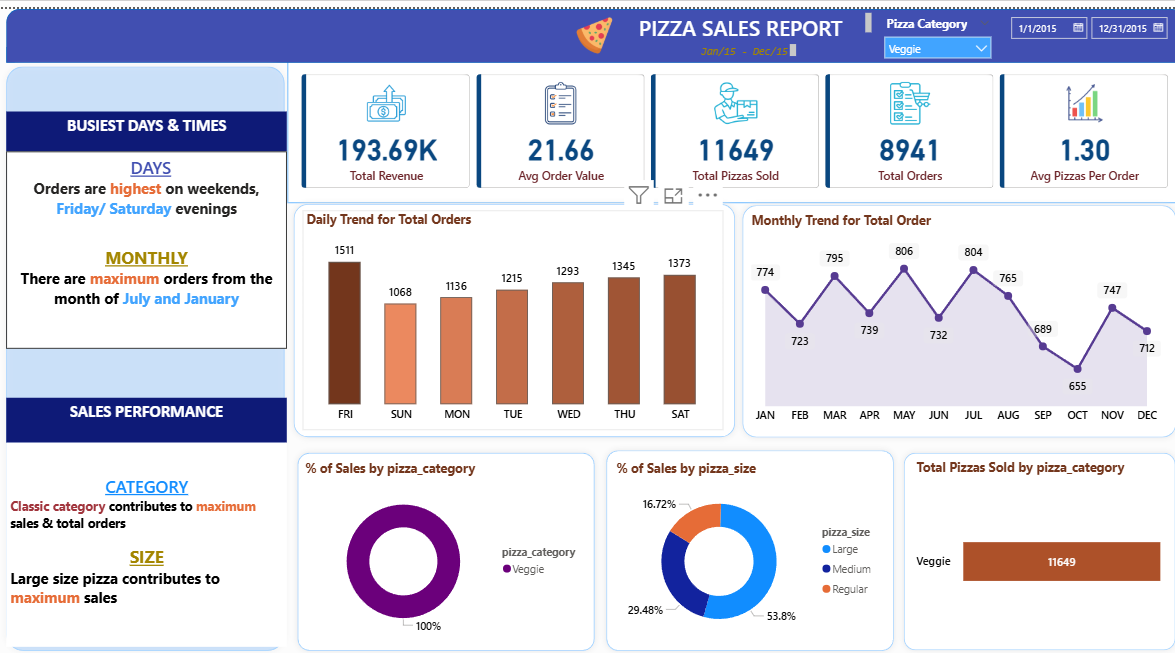

This screenshot's page, from the dashboard's own definition file:
{"tool":"powerbi","page":{"name":"HOME","canvas":[1500,820],"ordinal":0},"visuals":[{"type":"cardVisual","fields":{"Data":["pizza_sales.Total Revenue","pizza_sales.Avg Order Value","pizza_sales.Total Pizzas Sold","pizza_sales.Total Orders","pizza_sales.Avg Pizzas Per Order"]},"box":[363.5,65.1,1136.5,181],"z":0},{"type":"shape","box":[7.9,0,1492.1,68.3],"z":1000},{"type":"image","box":[573.3,388.3,65,41.7],"z":2000},{"type":"shape","box":[363.5,239.7,574.6,311.1],"z":3000},{"type":"columnChart","title":"Daily Trend for Total Orders","fields":{"Category":["pizza_sales.Order Day"],"Y":["pizza_sales.Total Orders"]},"box":[382.5,255.6,533.3,277.8],"z":4000},{"type":"shape","box":[931.7,240,565,310],"z":5000},{"type":"areaChart","title":"Monthly Trend for Total Order","fields":{"Category":["pizza_sales.Order Month"],"Y":["pizza_sales.Total Orders"]},"box":[946,257.1,528.6,277.8],"z":6000},{"type":"shape","box":[368.3,554,392.1,266.7],"z":7000},{"type":"shape","box":[760,550,380,270],"z":8000},{"type":"shape","box":[1136,554,360,266],"z":9000},{"type":"donutChart","title":"% of Sales by pizza_category","fields":{"Category":["pizza_sales.pizza_category"],"Y":["pizza_sales.Total Revenue"]},"box":[382,570,368,238],"z":10000},{"type":"shape","box":[0,65.1,368.3,755.6],"z":11000},{"type":"donutChart","title":"% of Sales by pizza_size","fields":{"Y":["pizza_sales.Total Revenue"],"Category":["pizza_sales.pizza_size"]},"box":[776,570,350,238],"z":12000},{"type":"funnel","fields":{"Category":["pizza_sales.pizza_category"],"Y":["pizza_sales.Total Pizzas Sold"]},"box":[1156,568,324,240],"z":13000},{"type":"textbox","box":[776.2,0,333.3,39.7],"z":14000},{"type":"image","box":[714.3,9.5,77.8,47.6],"z":15000},{"type":"textbox","box":[877.8,39.7,134.9,25.4],"z":16000},{"type":"textbox","box":[7.9,130.2,355.6,50.8],"z":17000},{"type":"textbox","box":[7.9,181,355.6,249.2],"z":18000},{"type":"textbox","box":[7.9,492.1,355.6,57.1],"z":19000},{"type":"textbox","box":[7.9,549.2,355.6,258.7],"z":20000},{"type":"slicer","fields":{"Values":["pizza_sales.pizza_category"]},"box":[1109.5,3.2,155.6,65.1],"z":21000},{"type":"slicer","fields":{"Values":["pizza_sales.order_date"]},"box":[1268.3,0,231.7,52.4],"z":22000}]}

Visuals, with their boxes in screenshot pixels (x1, y1, x2, y2), scaled from the page's 1500x820 canvas onto the 1175x653 screenshot:
cardVisual - pizza_sales.Total Revenue x pizza_sales.Avg Order Value: l=285, t=52, r=1174, b=196
shape: l=6, t=0, r=1174, b=54
image: l=449, t=309, r=500, b=342
shape: l=285, t=191, r=735, b=439
"Daily Trend for Total Orders" columnChart: l=300, t=204, r=717, b=425
shape: l=730, t=191, r=1172, b=438
"Monthly Trend for Total Order" areaChart: l=741, t=205, r=1155, b=426
shape: l=289, t=441, r=596, b=652
shape: l=595, t=438, r=893, b=652
shape: l=890, t=441, r=1172, b=652
"% of Sales by pizza_category" donutChart: l=299, t=454, r=588, b=643
shape: l=0, t=52, r=289, b=652
"% of Sales by pizza_size" donutChart: l=608, t=454, r=882, b=643
funnel - pizza_sales.pizza_category x pizza_sales.Total Pizzas Sold: l=906, t=452, r=1159, b=643
textbox: l=608, t=0, r=869, b=32
image: l=560, t=8, r=620, b=45
textbox: l=688, t=32, r=793, b=52
textbox: l=6, t=104, r=285, b=144
textbox: l=6, t=144, r=285, b=343
textbox: l=6, t=392, r=285, b=437
textbox: l=6, t=437, r=285, b=643
slicer - pizza_sales.pizza_category: l=869, t=3, r=991, b=54
slicer - pizza_sales.order_date: l=994, t=0, r=1174, b=42
